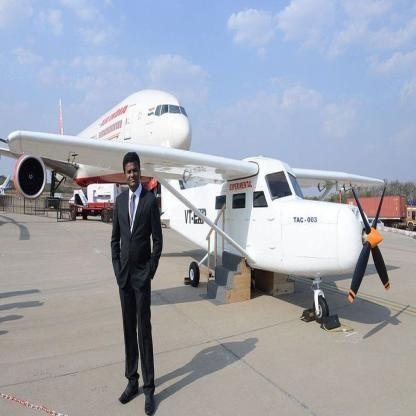CIV_Plane: (6, 129, 390, 305), (3, 80, 192, 194)
